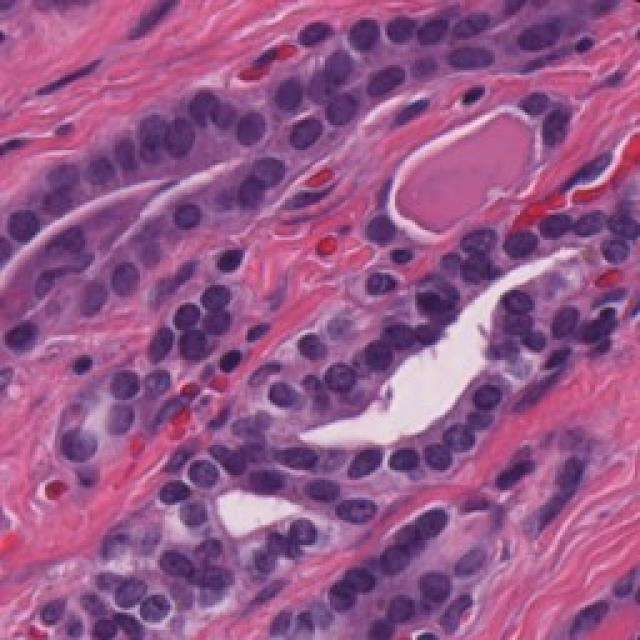normal: (278, 96, 343, 166), (311, 343, 372, 414), (467, 356, 530, 424), (211, 100, 270, 168), (174, 431, 230, 496), (350, 193, 406, 255), (443, 201, 495, 266), (330, 441, 390, 495), (103, 248, 143, 329), (237, 448, 289, 508), (506, 212, 553, 275), (383, 426, 424, 497), (168, 188, 212, 247), (322, 78, 362, 141), (193, 266, 235, 322)
